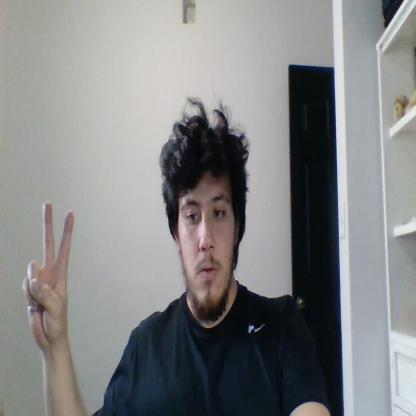V: (23, 201, 74, 347)
